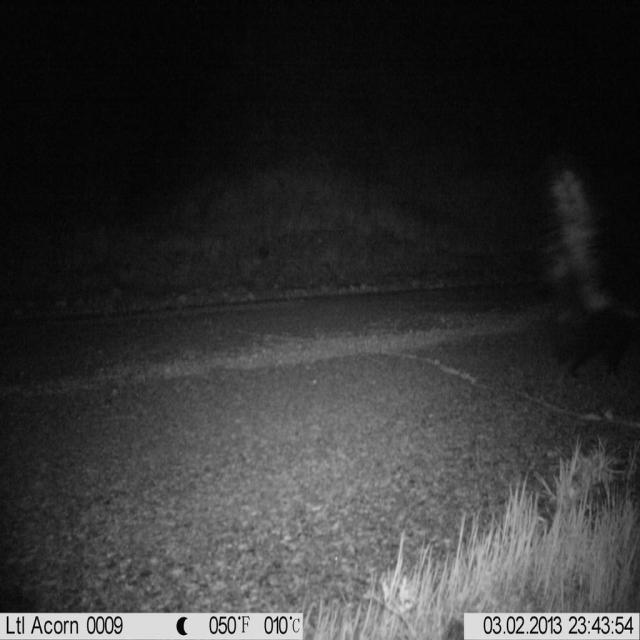skunk: (540, 160, 640, 399)
